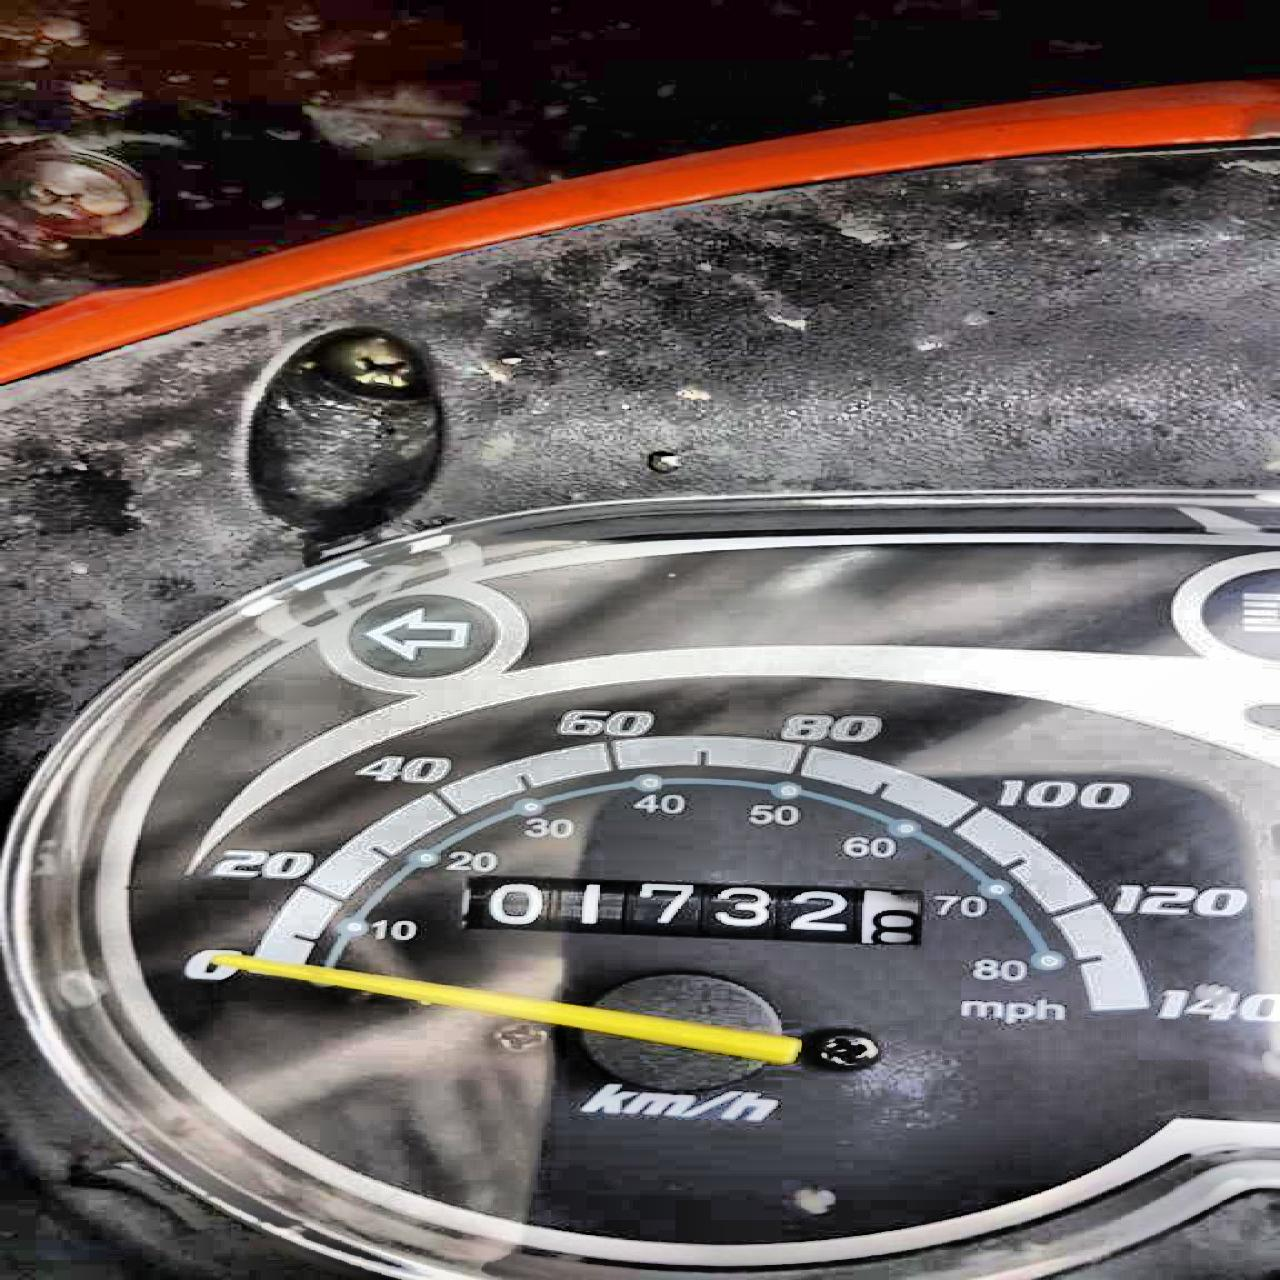0: (483, 881, 545, 925)
1: (566, 881, 606, 926)
2: (787, 888, 846, 938)
3: (714, 884, 774, 928)
7: (635, 880, 700, 930)
8: (860, 906, 922, 945)
odometer: (458, 873, 930, 952)
